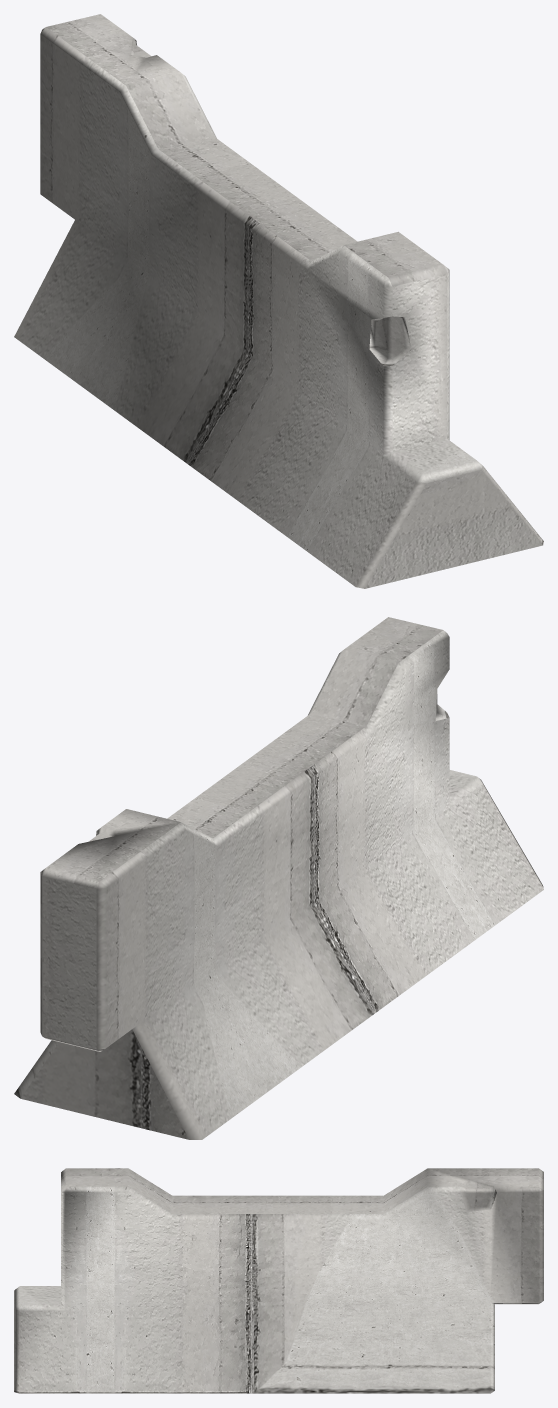
Rendered from concrete_barrier.fbx.
3 views of the same model, one above another, from view 1: azimuth 30°, elevation 25°; view 2: azimuth 150°, elevation 25°; view 3: azimuth 270°, elevation 25° (orthographic). The views are drawn at different scales.
Visible parts, largest first — view 1: concrete_barrier; view 2: concrete_barrier; view 3: concrete_barrier.
Boxes of the visible parts, x1,y1,x2,y2 form: concrete_barrier: (14,14,543,588); concrete_barrier: (14,617,543,1139); concrete_barrier: (14,1168,543,1393).
Bounding box in the file's own units: 1 × 1.36 × 3.54.
